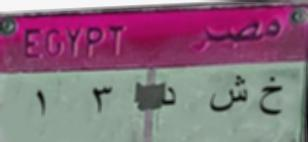1: (33, 88, 50, 120)
3: (88, 79, 116, 122)
daal: (158, 81, 180, 111)
khaa: (256, 74, 286, 122)
sheen: (207, 72, 251, 118)
